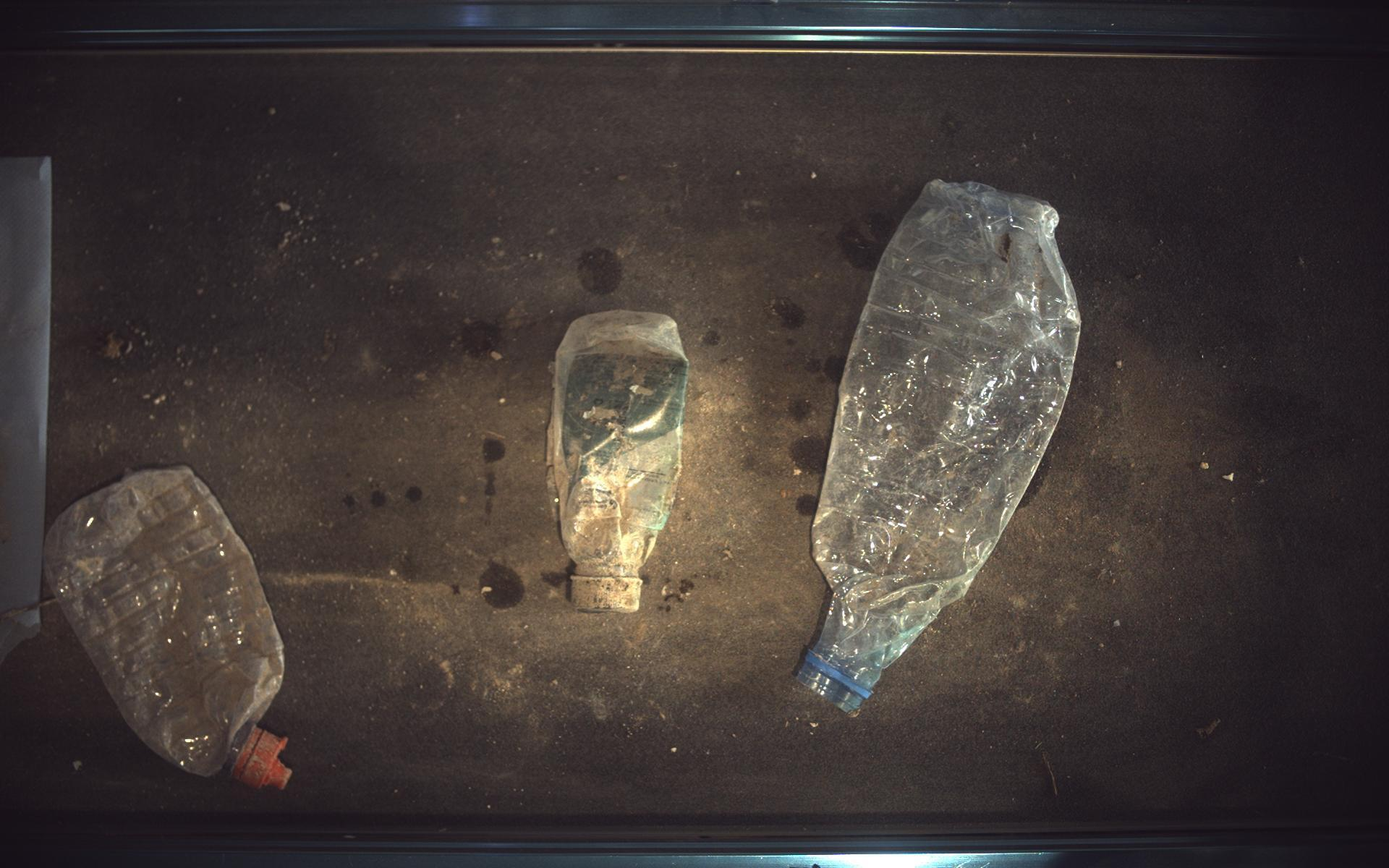general_w: (798, 181, 1083, 713), (43, 467, 292, 791), (548, 310, 689, 613), (1, 156, 50, 663)
